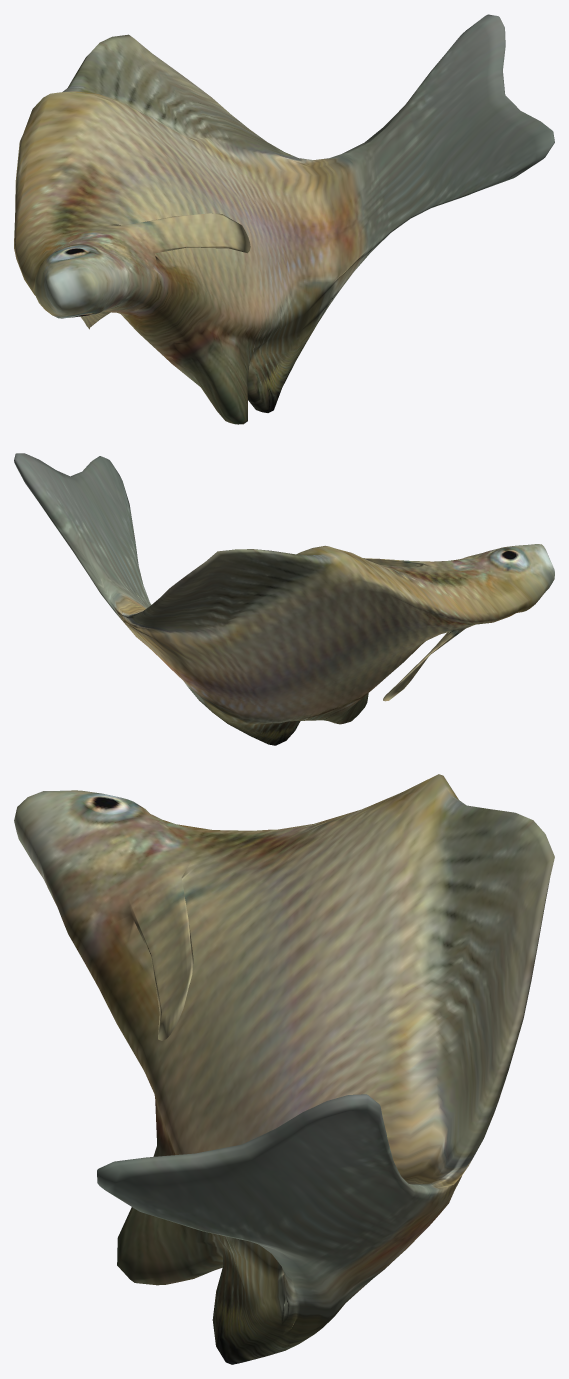
File: aburabote_model.fbx
3 renders of one model, top to bottom at view 1: azimuth 30°, elevation 25°; view 2: azimuth 150°, elevation 25°; view 3: azimuth 270°, elevation 25°, orthographic. The views are drawn at different scales.
Visible parts, largest first — view 1: pCube1; view 2: pCube1; view 3: pCube1.
Boxes of the visible parts, <box> form: pCube1: <box>14,14,554,424</box>; pCube1: <box>14,453,554,745</box>; pCube1: <box>14,774,554,1364</box>.
Size of the model in its own units: 2.92 by 1.63 by 1.63.
